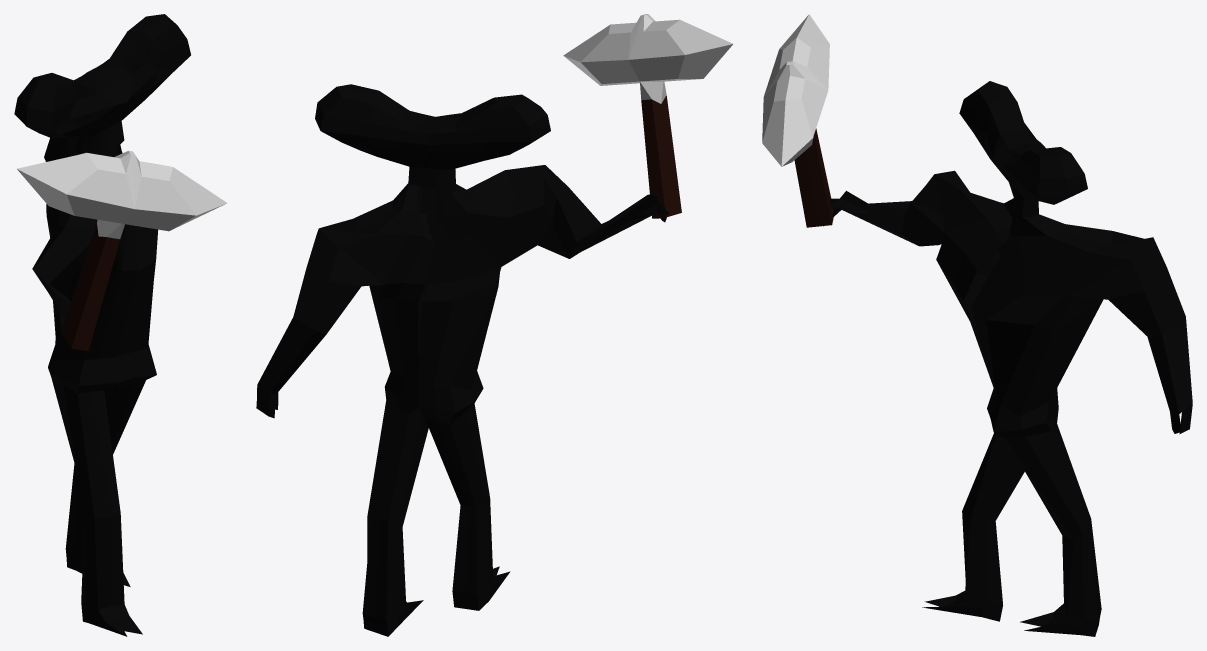
Rendered from Giant2a.obj.
3 views of the same model, side by side, from view 1: azimuth 30°, elevation 25°; view 2: azimuth 150°, elevation 25°; view 3: azimuth 270°, elevation 25° (orthographic). The views are drawn at different scales.
Parts seen in each view (by area): view 1: Cube; view 2: Cube; view 3: Cube.
Boxes of the visible parts, box(x1,y1,x2,y2) form: Cube: box(14, 14, 227, 636); Cube: box(256, 14, 732, 636); Cube: box(762, 14, 1192, 636).
Size of the model in its own units: 0.8269 by 1.49 by 1.11.
